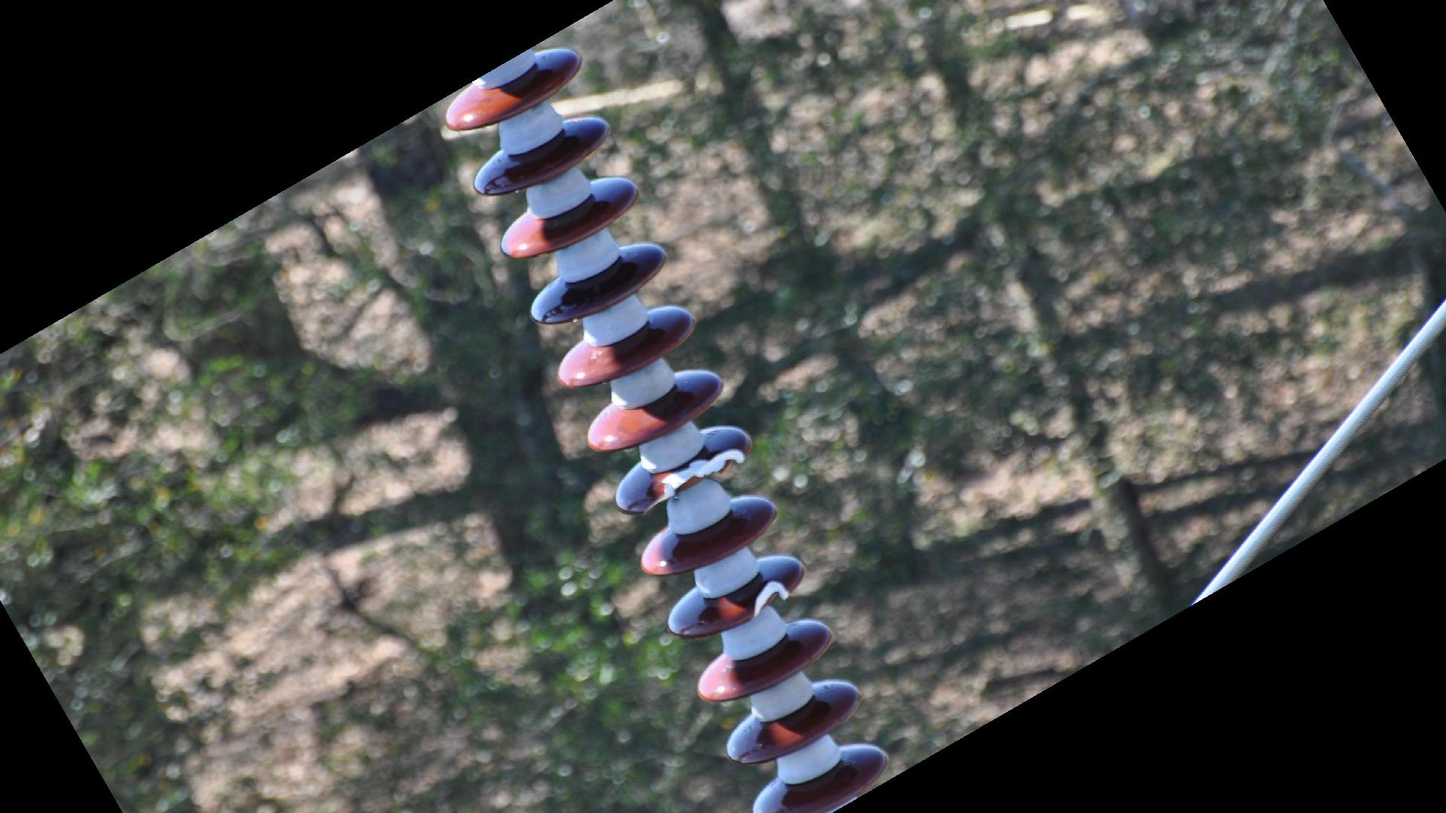insulator: (440, 38, 904, 813)
insulator_breakage: (633, 443, 749, 518), (743, 576, 796, 622)
